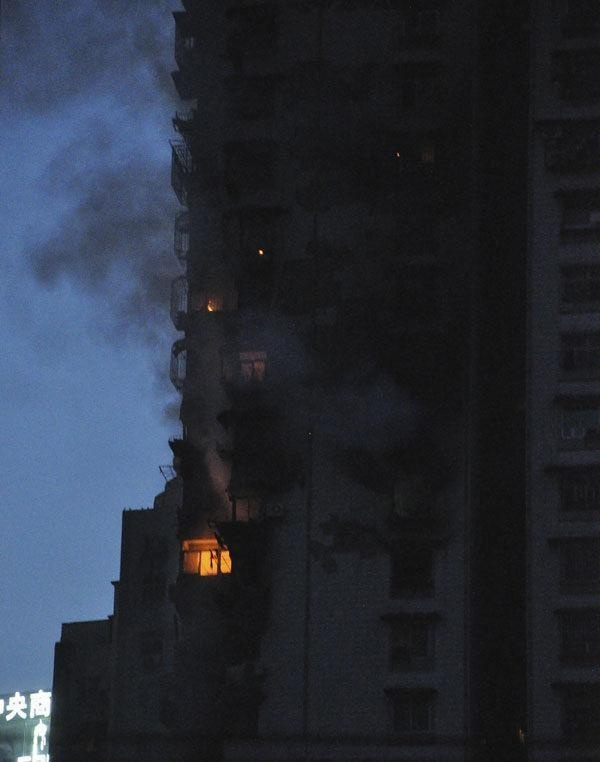fire: (183, 531, 233, 574)
